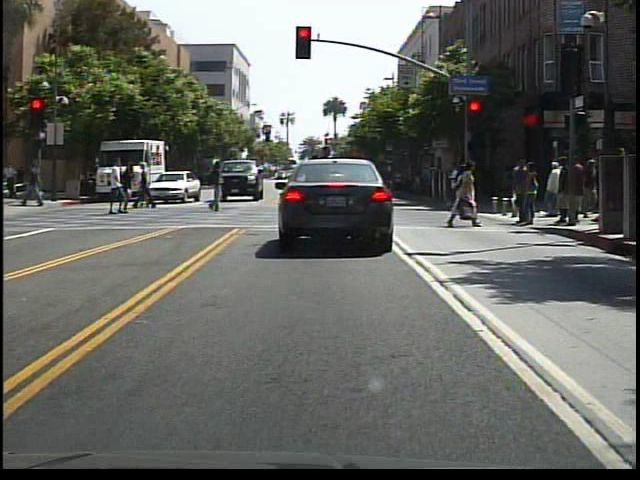person: (304, 129, 341, 237), (445, 160, 487, 232), (205, 159, 233, 216), (104, 157, 127, 220), (22, 161, 49, 212), (548, 152, 564, 224), (135, 160, 156, 213), (123, 163, 141, 215)
